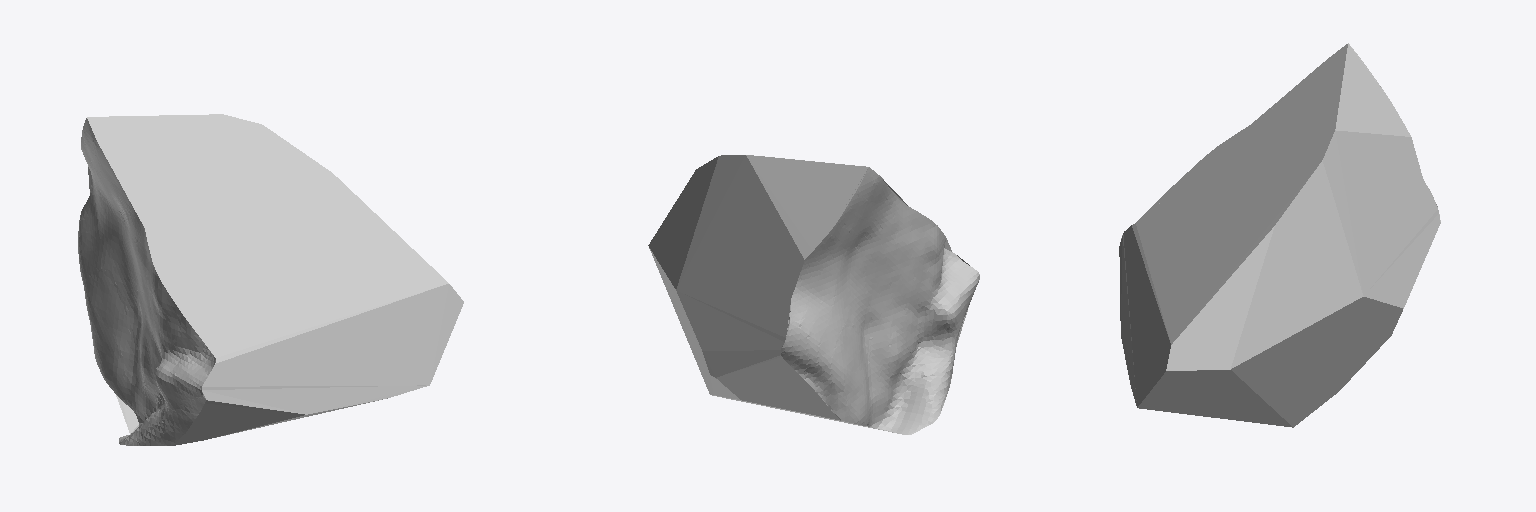
Rendered from low_cell_043.obj.
The picture shows the model from 3 angles: view 1: azimuth 30°, elevation 25°; view 2: azimuth 150°, elevation 25°; view 3: azimuth 270°, elevation 25°; orthographic projection.
Visible parts, largest first — view 1: low_cell.043_low_cell.042; view 2: low_cell.043_low_cell.042; view 3: low_cell.043_low_cell.042.
Part boxes in pixels (x1,y1,x2,y2): low_cell.043_low_cell.042: (78, 114, 463, 445); low_cell.043_low_cell.042: (648, 155, 979, 434); low_cell.043_low_cell.042: (1119, 43, 1440, 427).
Bounding box in the file's own units: 1.12 × 1.04 × 1.03.